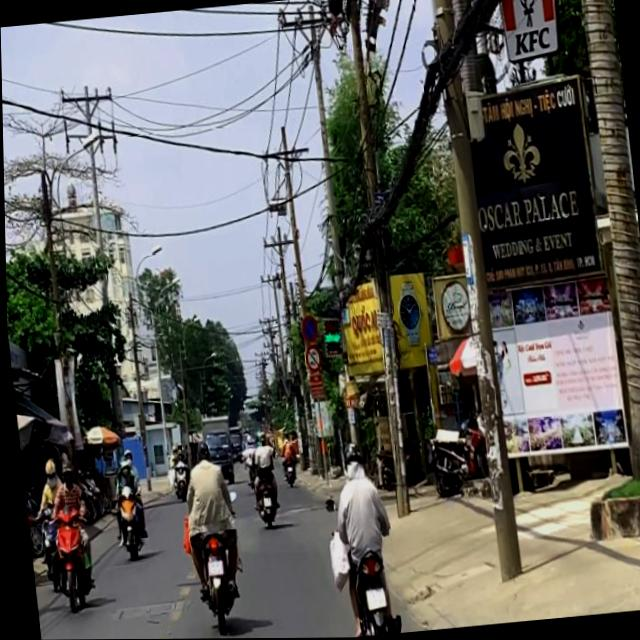Cam do xe: (300, 314, 317, 344)
